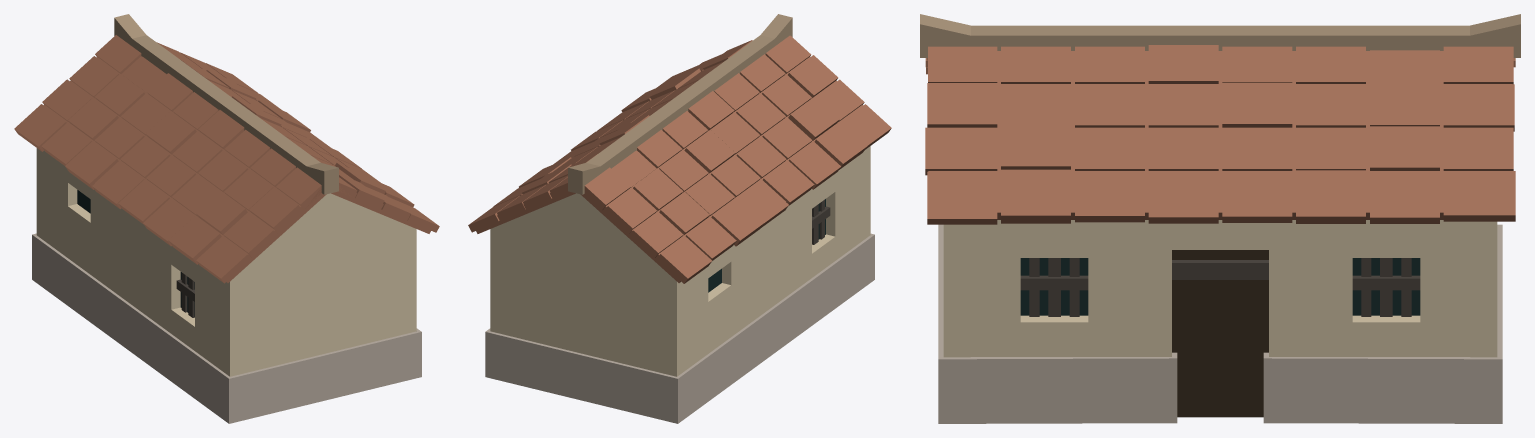
Rendered from Building_mode_L2_Northhouse018.fbx.
3 views of the same model, side by side, from view 1: azimuth 30°, elevation 25°; view 2: azimuth 150°, elevation 25°; view 3: azimuth 270°, elevation 25° (orthographic). The views are drawn at different scales.
Parts seen in each view (by area): view 1: Building_mode_L2_Northhouse018; view 2: Building_mode_L2_Northhouse018; view 3: Building_mode_L2_Northhouse018.
Boxes of the visible parts, box(x1,y1,x2,y2) form: Building_mode_L2_Northhouse018: box(14, 14, 439, 423); Building_mode_L2_Northhouse018: box(468, 14, 891, 423); Building_mode_L2_Northhouse018: box(920, 14, 1520, 423).
Size of the model in its own units: 2.89 by 2.93 by 4.73.
